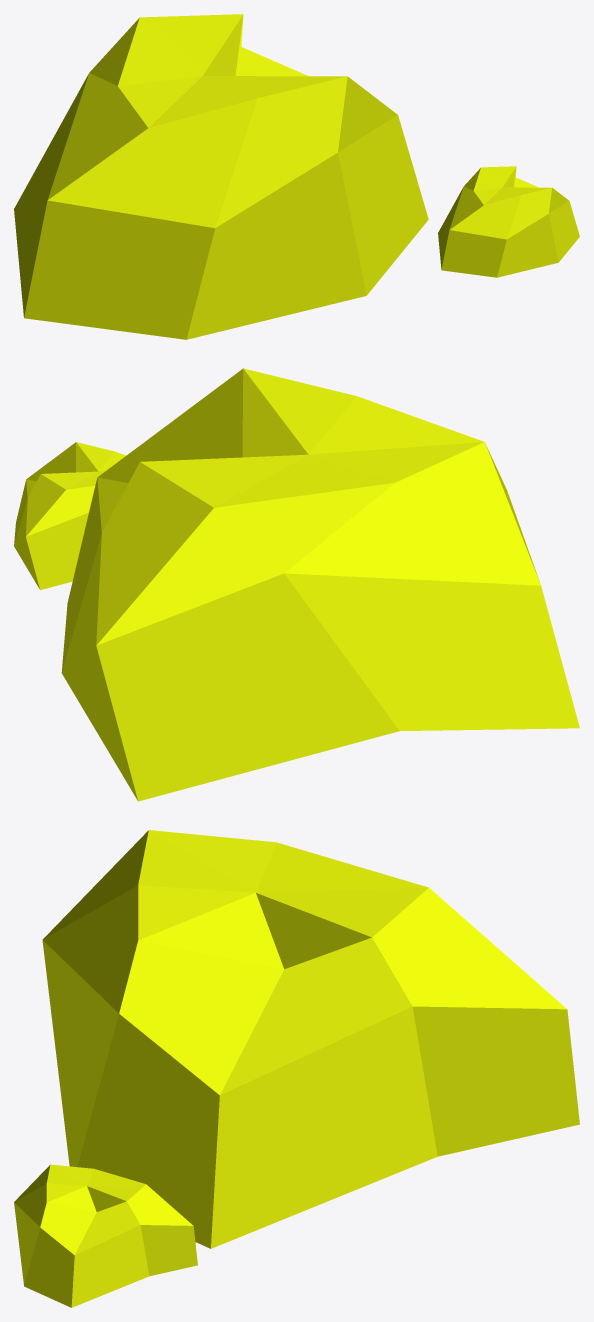
File: sulfur.fbx
The picture shows the model from 3 angles, top to bottom: view 1: azimuth 30°, elevation 25°; view 2: azimuth 150°, elevation 25°; view 3: azimuth 270°, elevation 25°; orthographic projection. The views are drawn at different scales.
Parts seen in each view (by area): view 1: Сфера.003, Сфера.002; view 2: Сфера.003, Сфера.002; view 3: Сфера.003, Сфера.002.
Part boxes in pixels (x1=…): Сфера.003: x1=14, y1=14, x2=428, y2=339; Сфера.002: x1=438, y1=166, x2=579, y2=277; Сфера.003: x1=61, y1=368, x2=579, y2=801; Сфера.002: x1=14, y1=442, x2=126, y2=590; Сфера.003: x1=42, y1=830, x2=579, y2=1248; Сфера.002: x1=14, y1=1164, x2=197, y2=1307.
Size of the model in its own units: 161 by 60.93 by 125.
